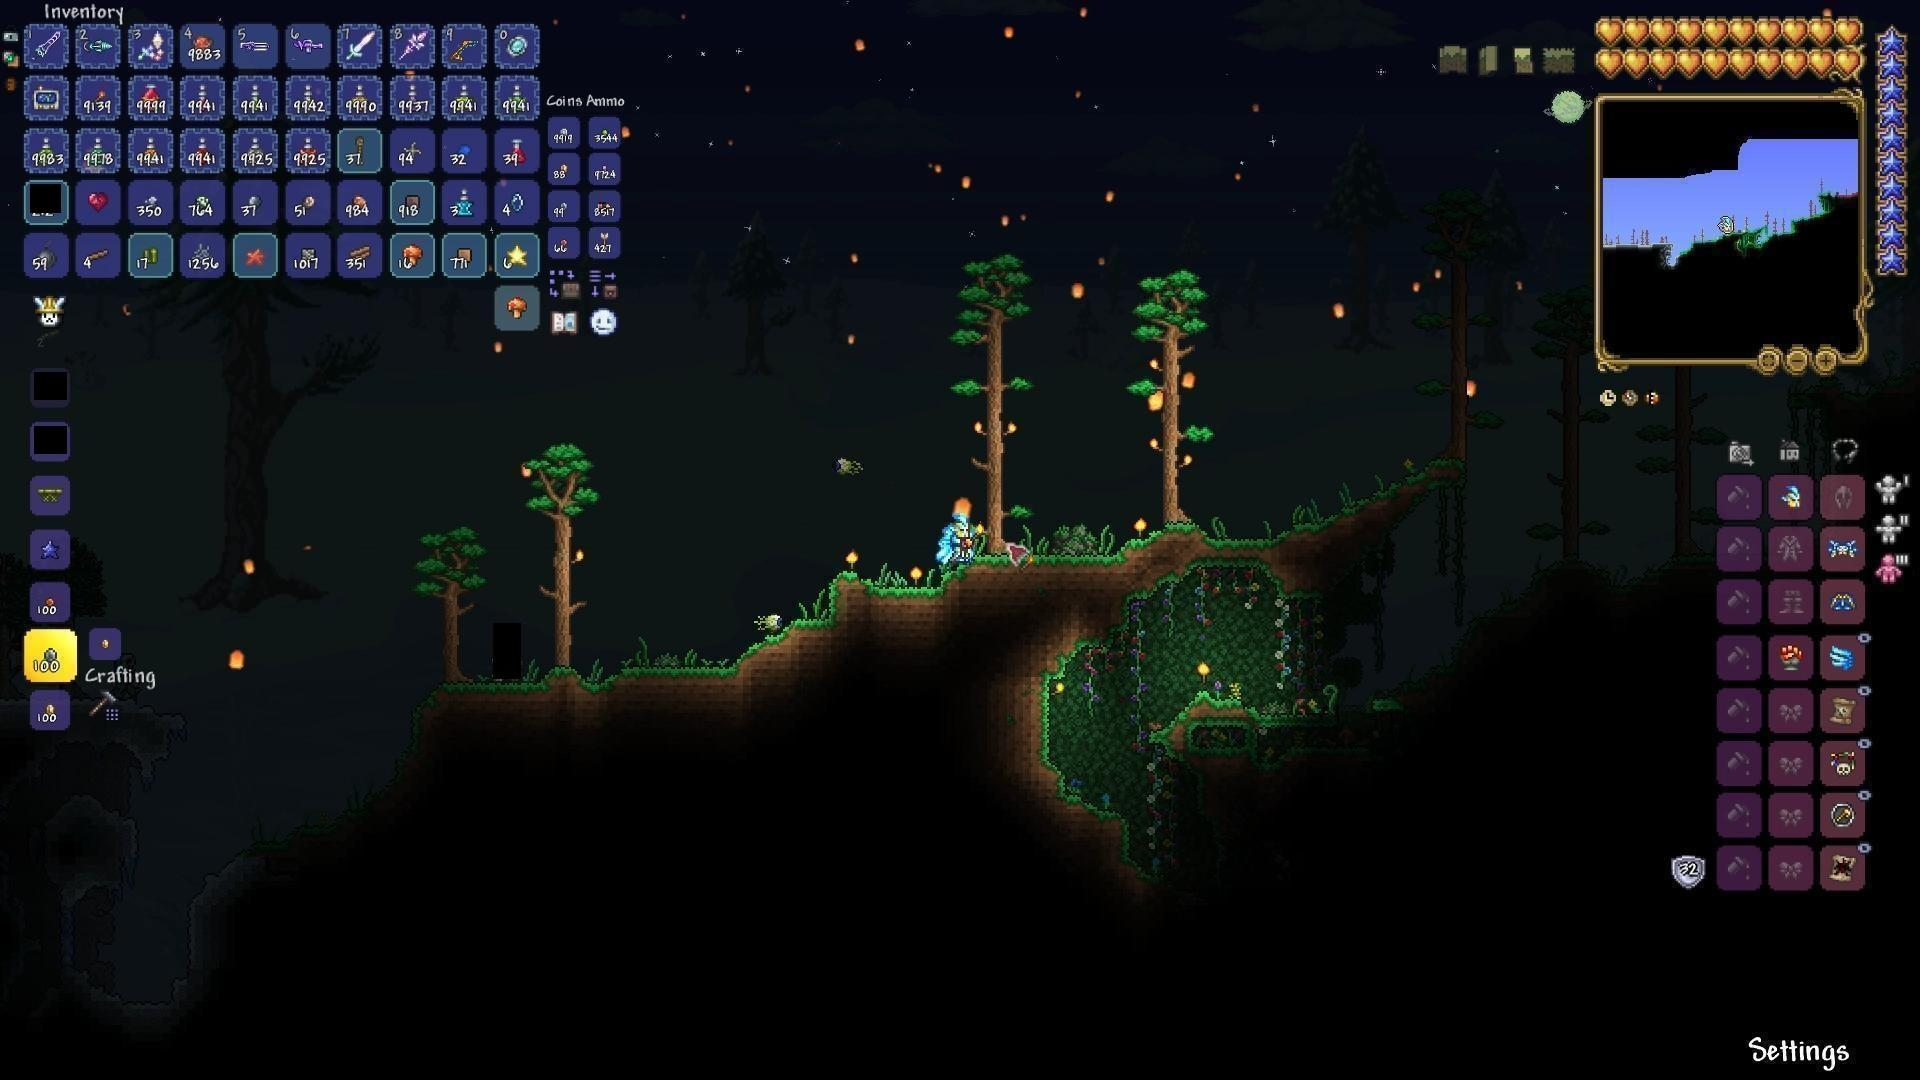wood: (345, 240, 375, 268)
